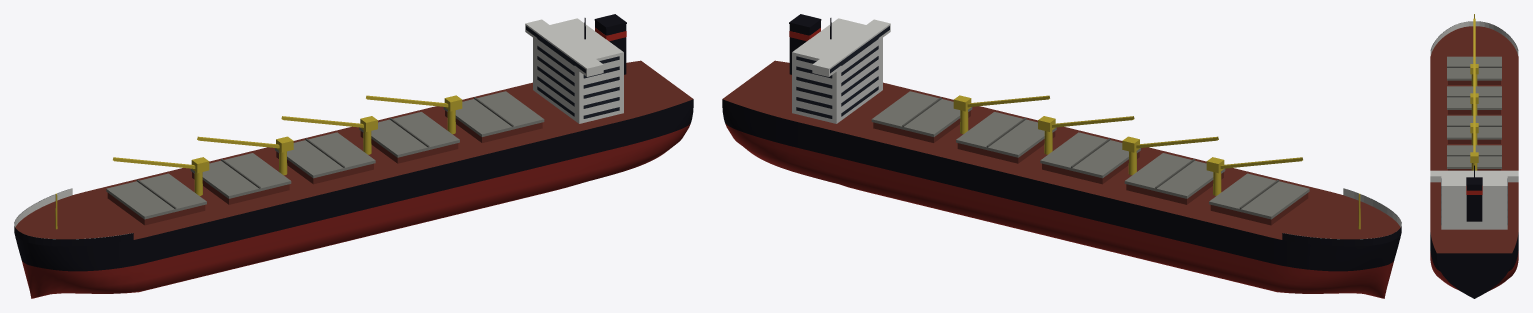
The model's file is bulk_carrier.glb.
3 views of the same model, side by side, from view 1: azimuth 30°, elevation 25°; view 2: azimuth 150°, elevation 25°; view 3: azimuth 270°, elevation 25° (orthographic). The views are drawn at different scales.
Visible parts, largest first — view 1: bulk_carrier; view 2: bulk_carrier; view 3: bulk_carrier.
Part boxes in pixels (x1=…): bulk_carrier: x1=14, y1=14, x2=693, y2=298; bulk_carrier: x1=722, y1=14, x2=1401, y2=298; bulk_carrier: x1=1430, y1=14, x2=1518, y2=298.
Bounding box in the file's own units: 194 × 41.64 × 31.99.
